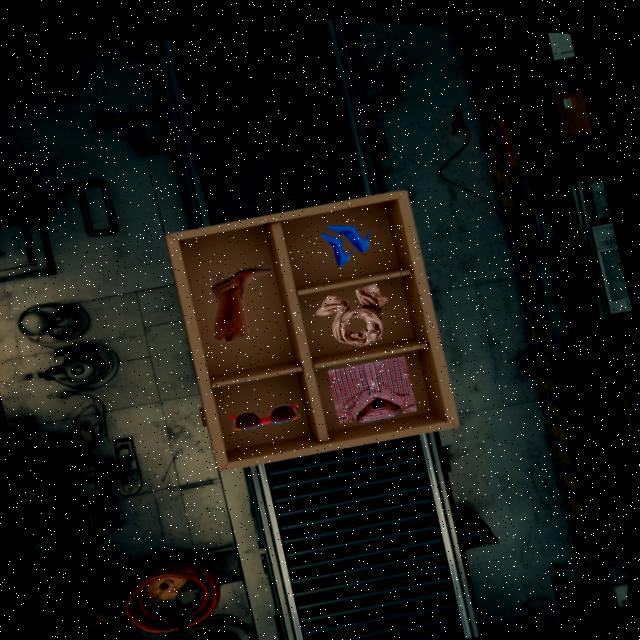boot: (210, 268, 270, 342)
heel: (327, 225, 369, 252), (320, 233, 354, 265)
scarf: (315, 283, 388, 346)
shirt: (327, 356, 415, 424)
sunglasses: (229, 404, 300, 430)
